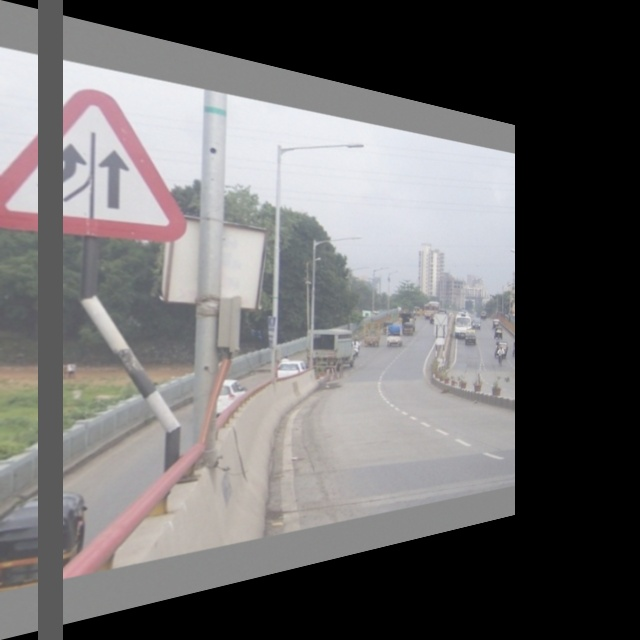Merge_Traffic_Ahead: (16, 83, 184, 244)
